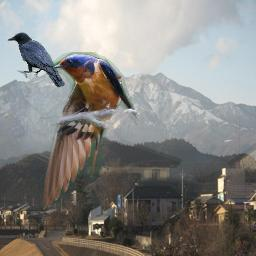Crow: (7, 32, 65, 89)
Swallow: (40, 52, 139, 209)
